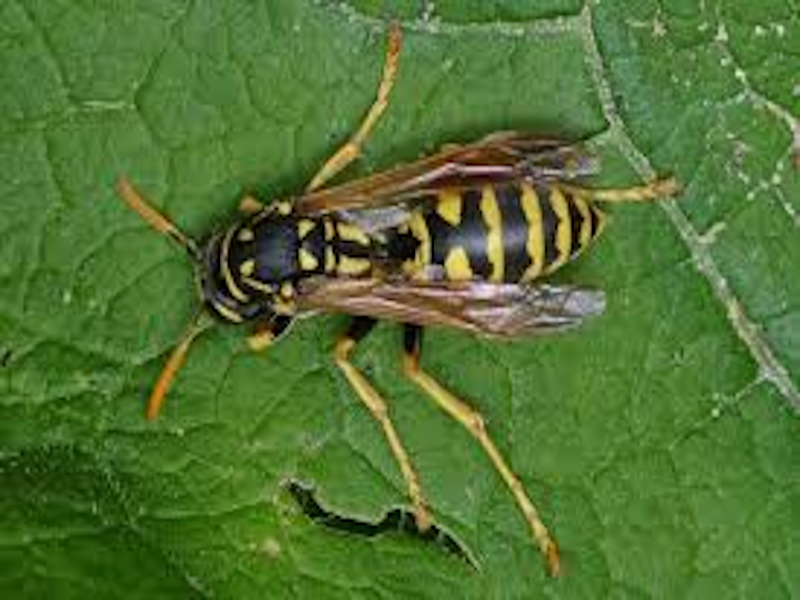chax: (115, 50, 660, 555)
